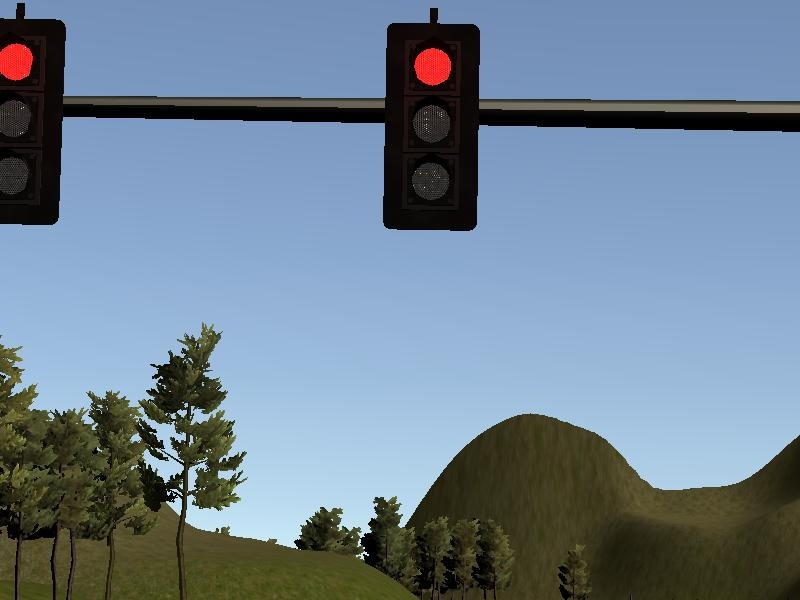RED: (380, 23, 479, 232), (1, 19, 66, 224)
